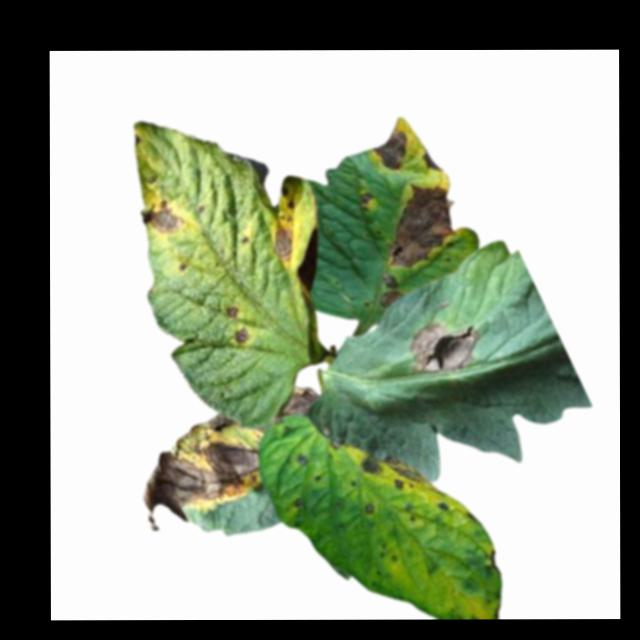Early_blight: (141, 413, 260, 532), (388, 184, 457, 269), (409, 321, 480, 379), (384, 452, 434, 487), (277, 384, 321, 422), (138, 199, 184, 235), (372, 130, 409, 172), (273, 222, 296, 266), (378, 276, 406, 310), (356, 453, 384, 476), (420, 149, 443, 174), (359, 190, 375, 212), (235, 324, 249, 347), (291, 497, 306, 513), (295, 453, 311, 467), (228, 304, 242, 319), (365, 503, 375, 515)
